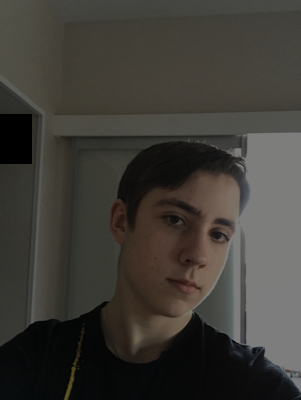without_mask: (141, 194, 239, 320)
